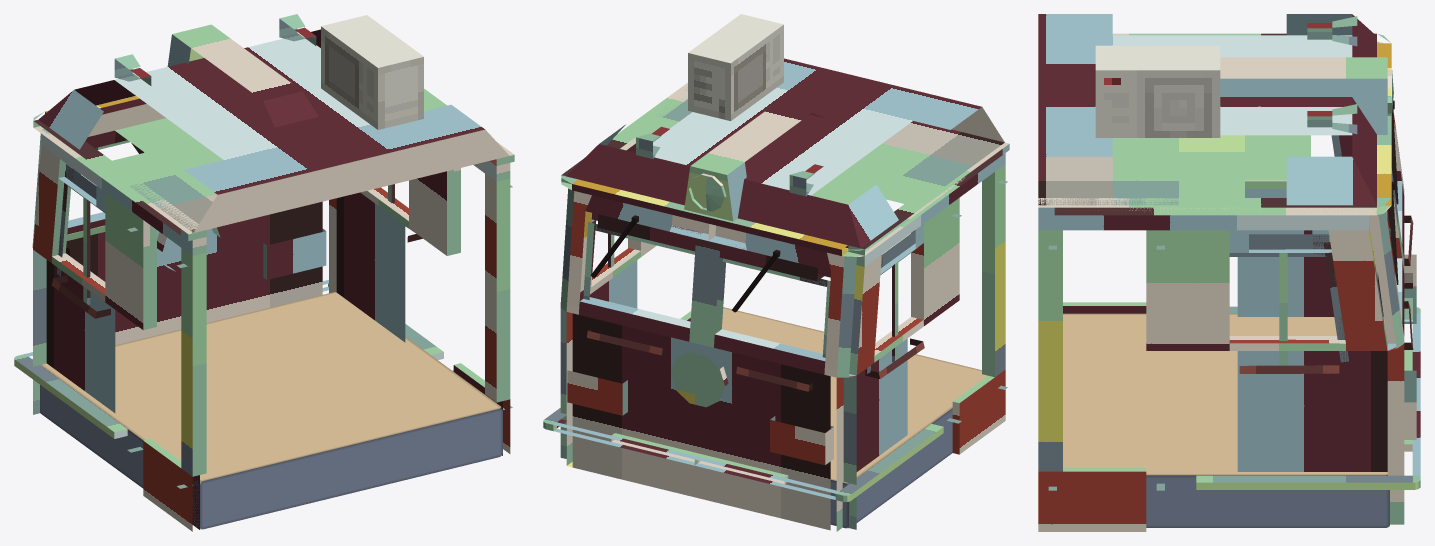
The model's file is ss3_head_early.obj.
3 renders of one model, left to right at view 1: azimuth 30°, elevation 25°; view 2: azimuth 150°, elevation 25°; view 3: azimuth 270°, elevation 25°, orthographic. The views are drawn at different scales.
Visible parts, largest first — view 1: 大窗版_selection_selection; view 2: 大窗版_selection_selection; view 3: 大窗版_selection_selection.
Part boxes in pixels (box(x1,y1,x2,y2)): 大窗版_selection_selection: box(14, 14, 514, 531); 大窗版_selection_selection: box(543, 14, 1009, 531); 大窗版_selection_selection: box(1038, 14, 1420, 531).
Bounding box in the file's own units: 3.16 × 3.56 × 2.88.
